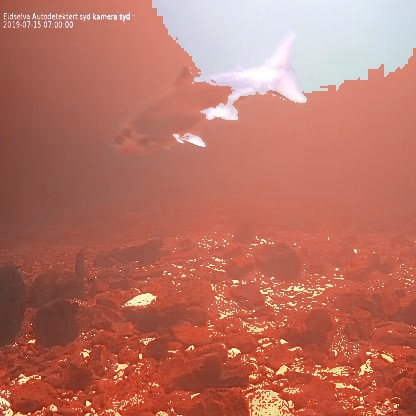salmon: (108, 27, 310, 158)
